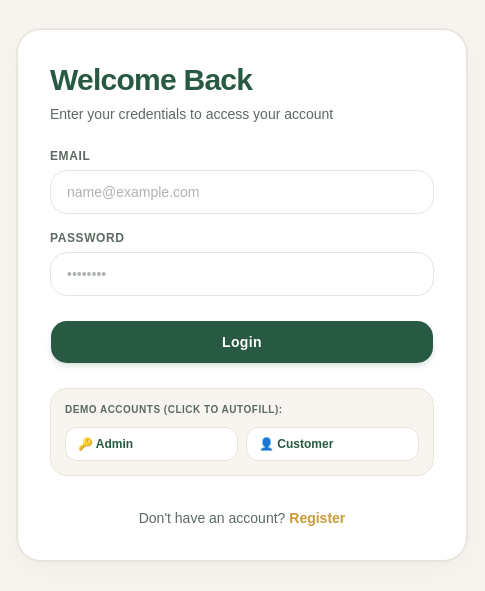
Test: Login Component › Validation › shows "Password is required" when password is empty
The width and height of the screenshot is (485, 591).
Type "test@example.com" into the field labelled "Email" at x=242, y=192, box [50,170,434,214]
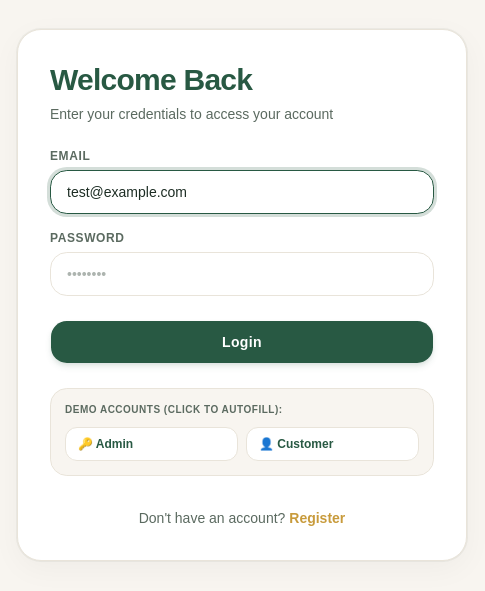
Click the button "Login" at x=242, y=342, box [50,320,434,364]
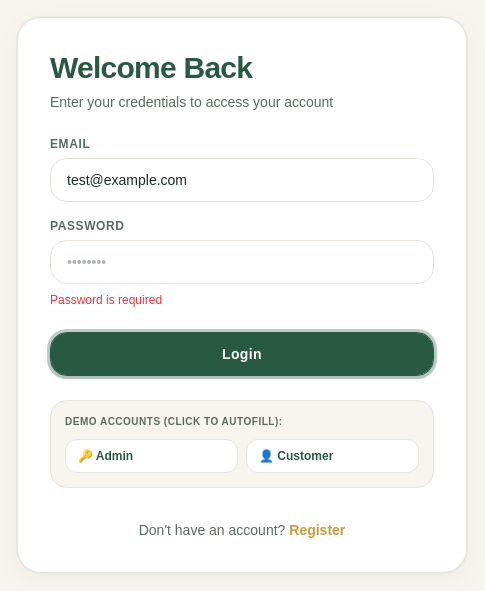
Expected: the text "Password is required" is shown, [50,293,162,307]
